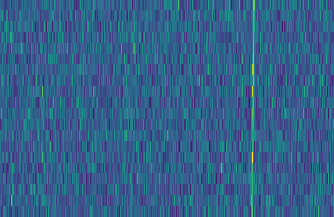signal: (248, 0, 259, 217)
